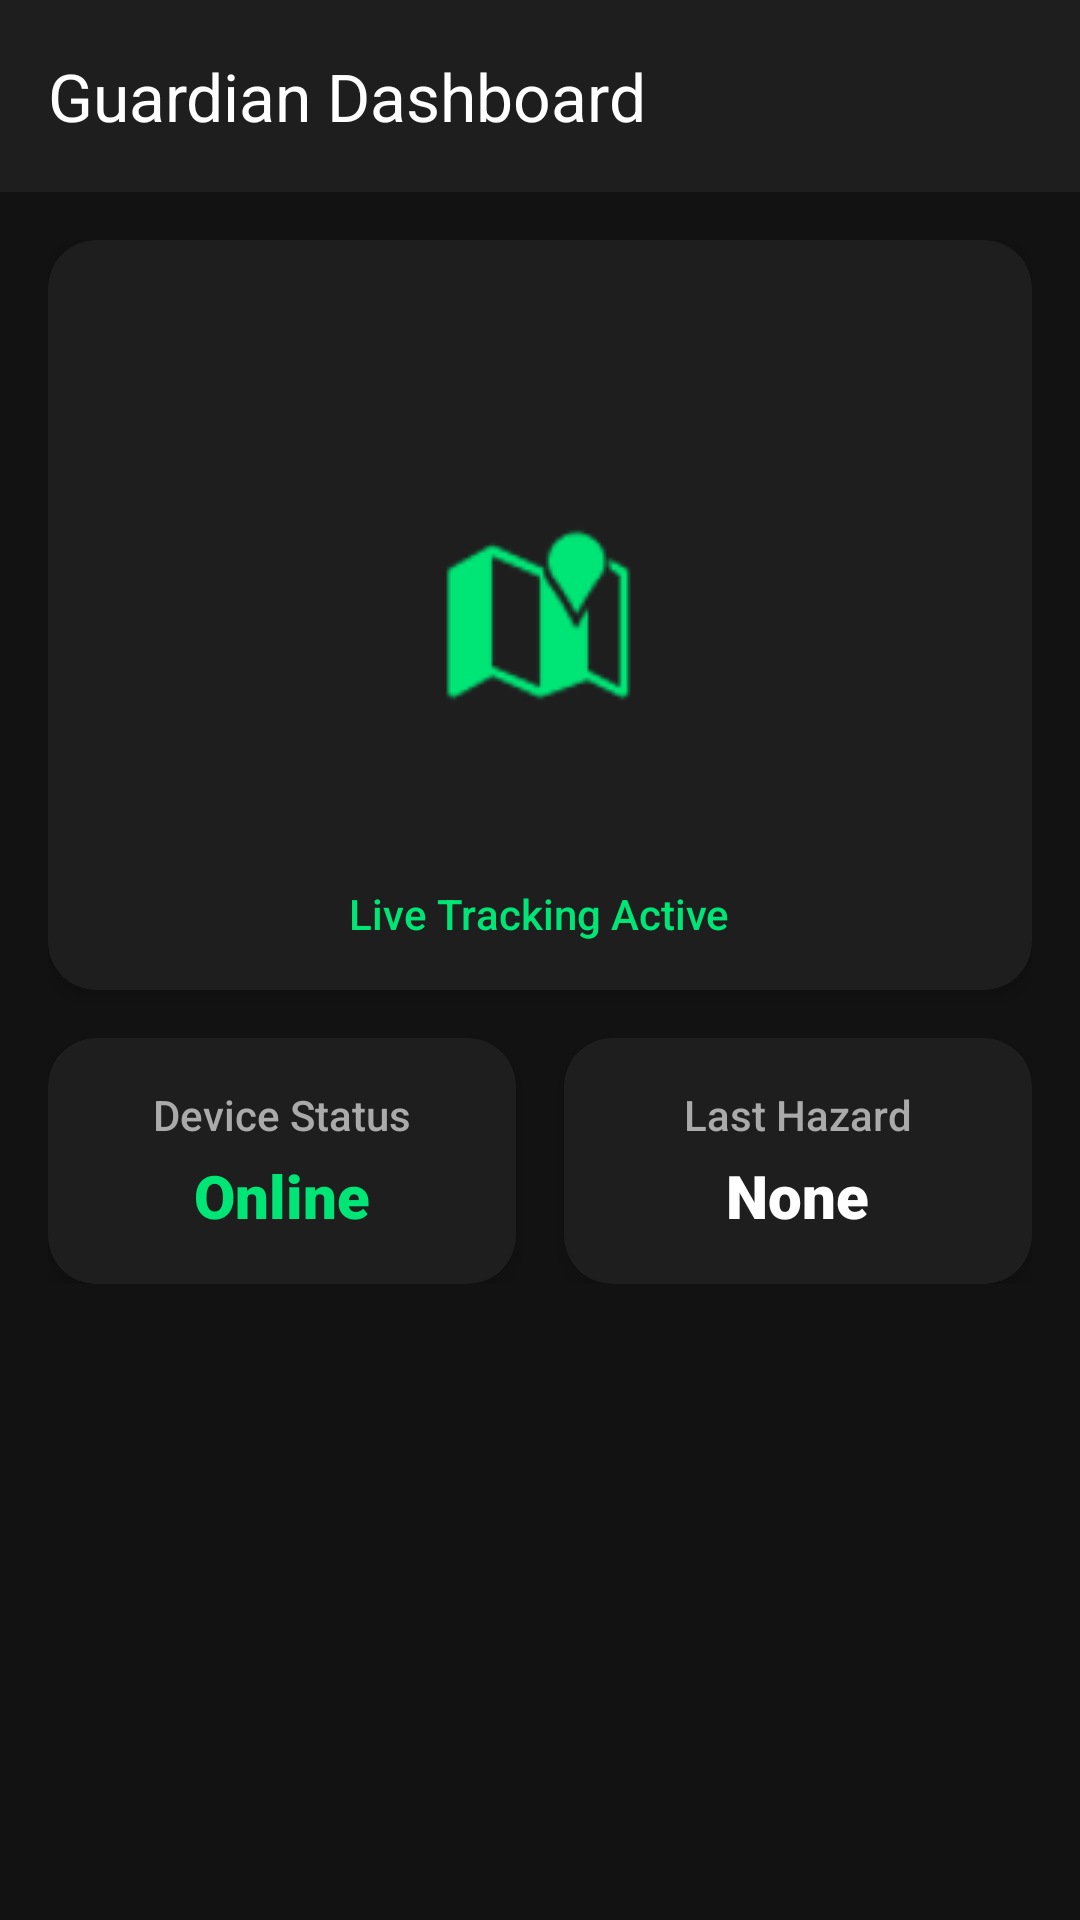

Named icons in this screenshot (1080px×1920px) and their centers, point (x, y):
map: point (538, 615)
